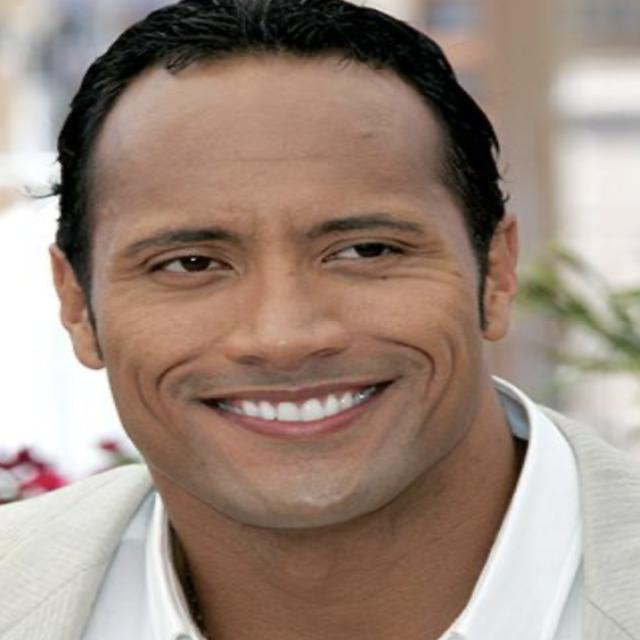happy: (36, 0, 528, 512)
